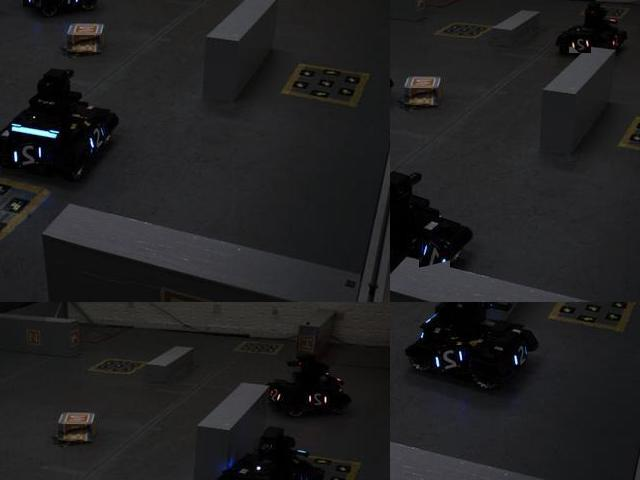armor: (433, 346, 471, 376), (420, 241, 452, 273), (12, 142, 48, 170), (82, 122, 109, 156), (507, 339, 533, 370), (304, 390, 334, 410), (569, 35, 592, 54), (264, 385, 283, 405), (59, 0, 83, 10), (23, 0, 42, 9), (296, 474, 320, 479)
